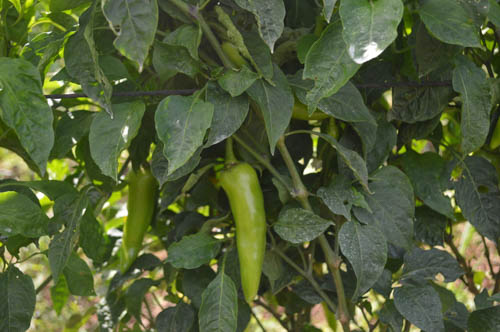ChiliPepper: (221, 166, 269, 305), (119, 169, 156, 267)
